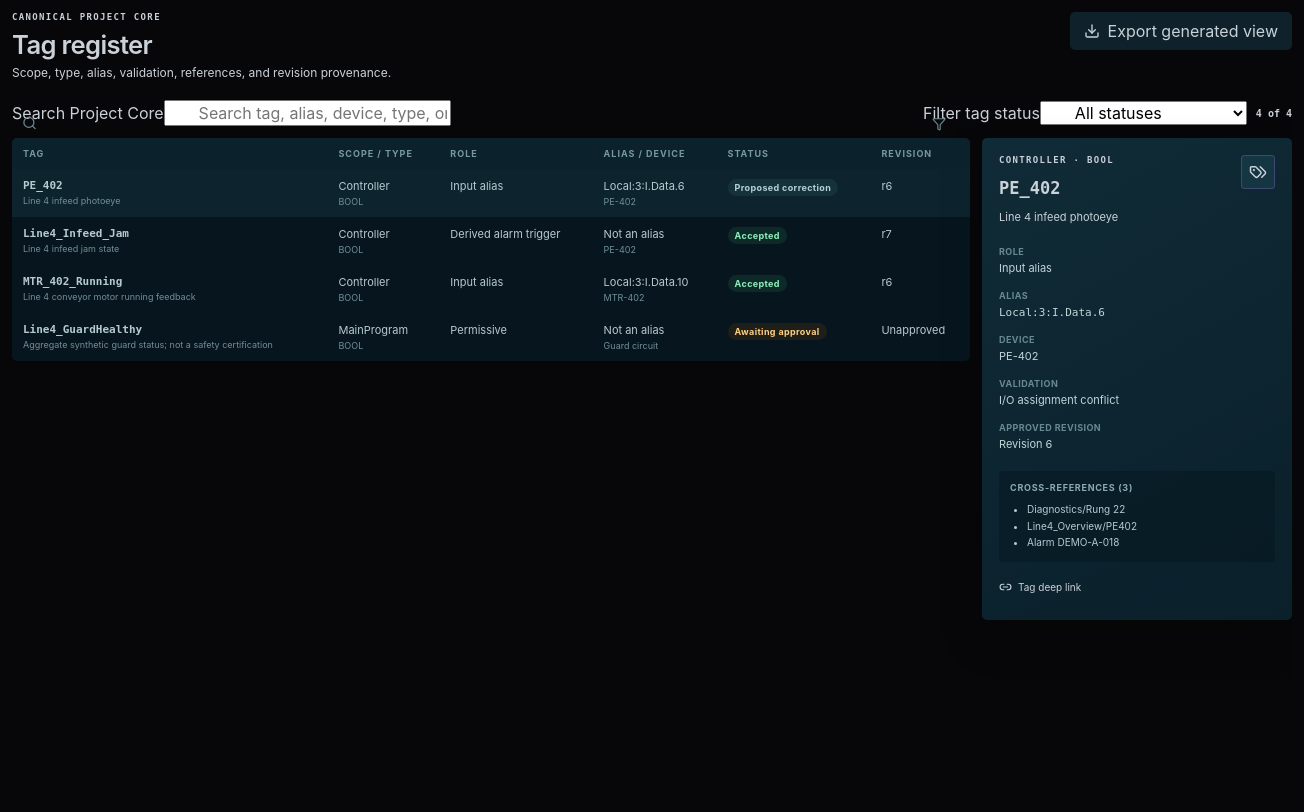
Test case: ProjectCoreExplorer › filters the tag register and preserves revision provenance
Type "GuardHealthy" into the field with placeholder "Search tag, alias, device, type, or description…" at (307, 113), box [164, 100, 451, 126]
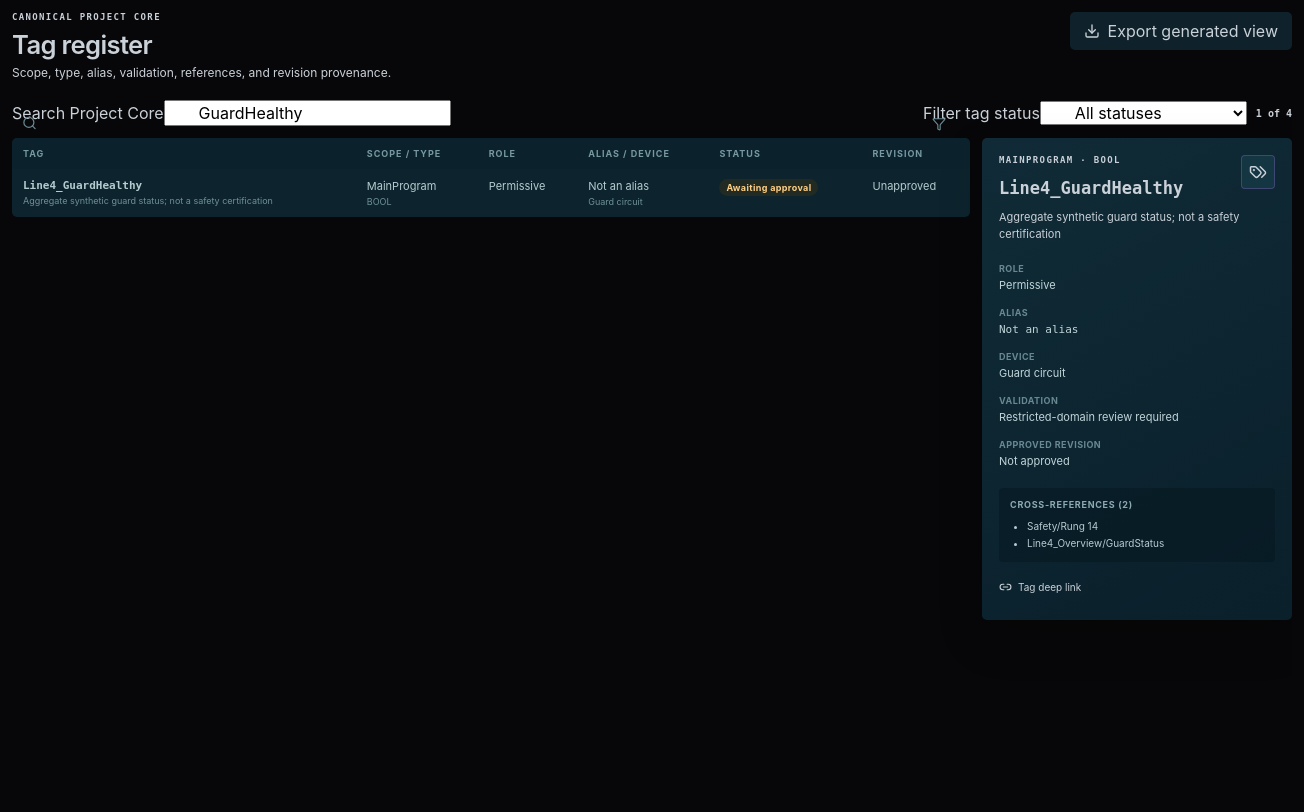
Expected: the text "Line4_GuardHealthy" is shown, [23, 179, 142, 192]
Expected: the button "PE_402" is gone
Expected: the text "Not approved" is shown, [999, 454, 1070, 468]
